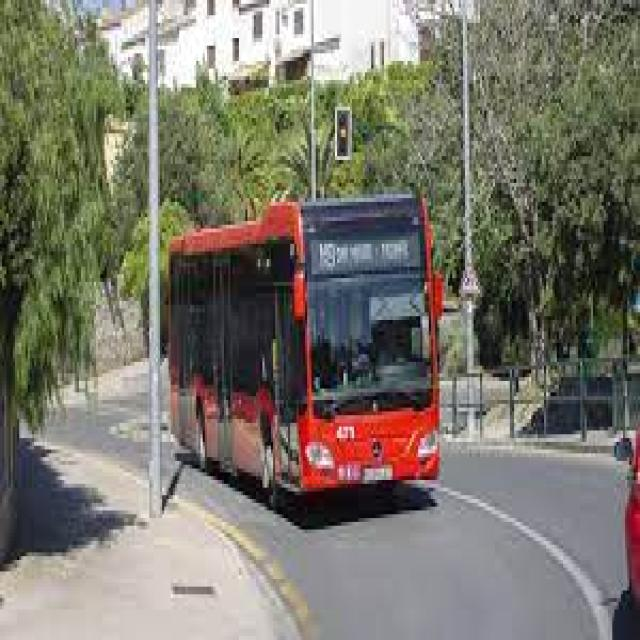BUS: (161, 195, 440, 494)
